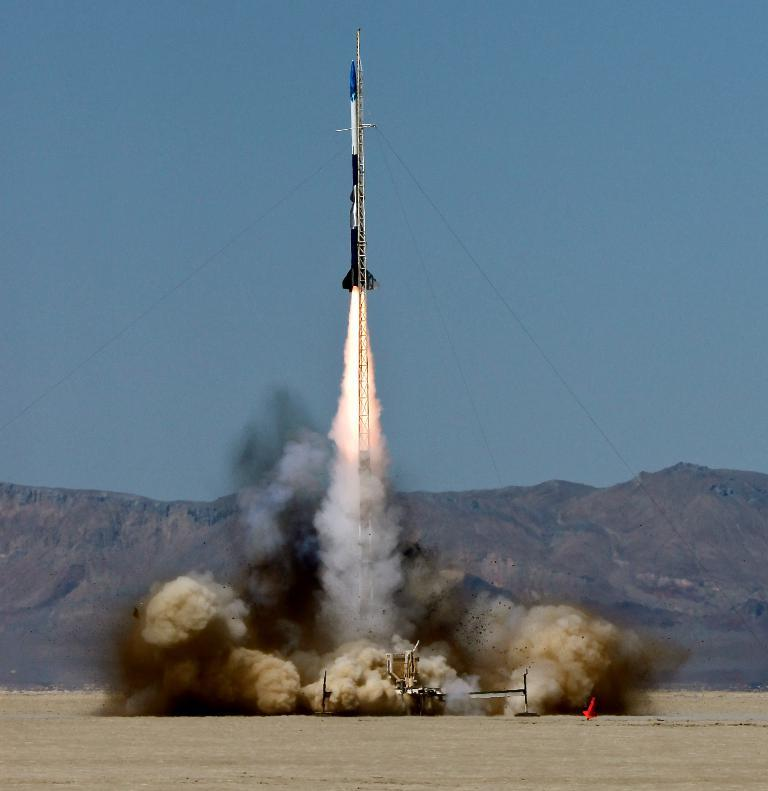Missile: (340, 56, 381, 295)
